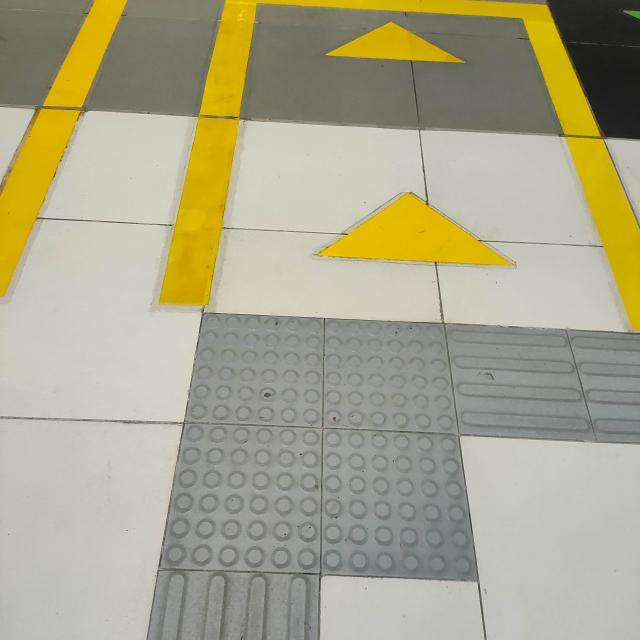kanan: (125, 275, 640, 640)
